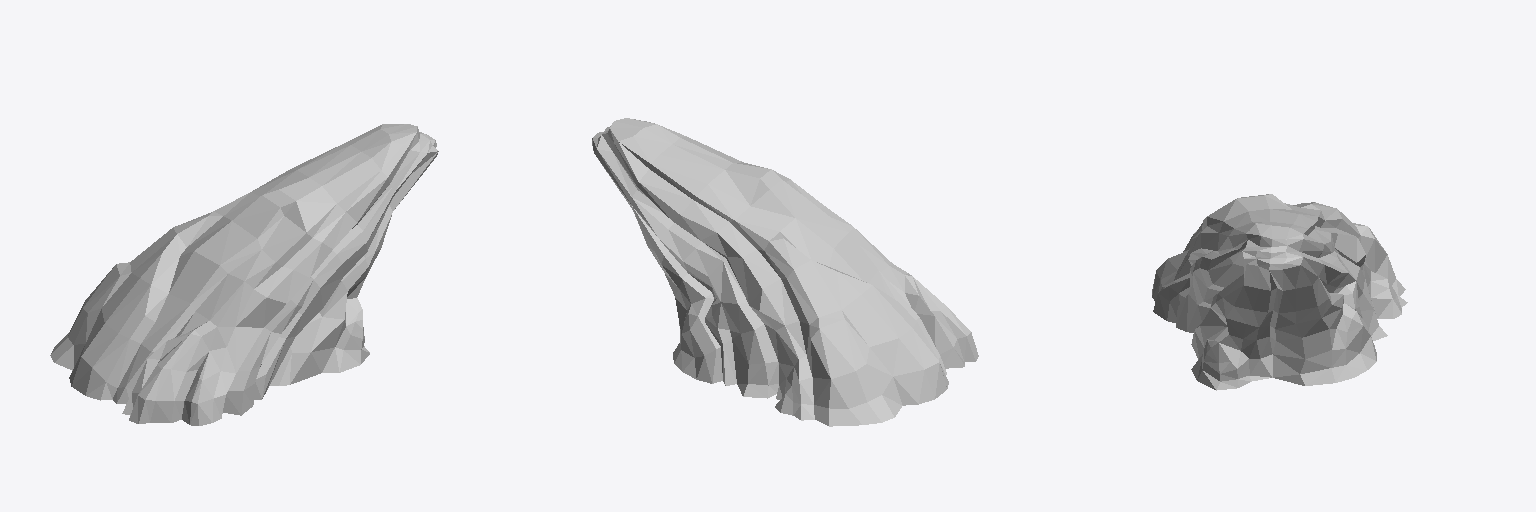
Rendered from rock_004.obj.
The picture shows the model from 3 angles: view 1: azimuth 30°, elevation 25°; view 2: azimuth 150°, elevation 25°; view 3: azimuth 270°, elevation 25°; orthographic projection.
Visible parts, largest first — view 1: rock_004 rock_004; view 2: rock_004 rock_004; view 3: rock_004 rock_004.
Part boxes in pixels (left/top/right/bottom): rock_004 rock_004: left=50, top=124, right=438, bottom=425; rock_004 rock_004: left=592, top=118, right=978, bottom=426; rock_004 rock_004: left=1152, top=194, right=1407, bottom=390.
Size of the model in its own units: 1637 by 838 by 1031.